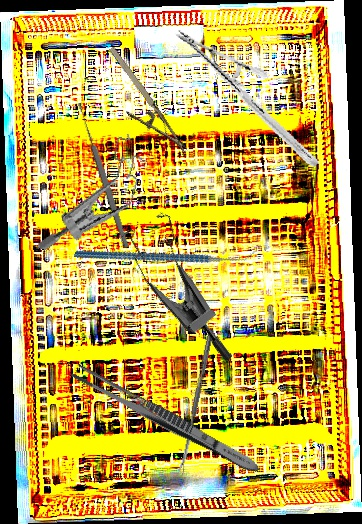Chopper: (73, 189, 258, 317)
Dressing Forceps: (68, 361, 264, 478)
Needle Holder: (151, 29, 343, 168), (91, 44, 189, 168)
Speculum: (101, 201, 276, 363), (36, 118, 153, 271)
Surgical Spoon: (75, 101, 131, 249), (177, 328, 214, 476)
